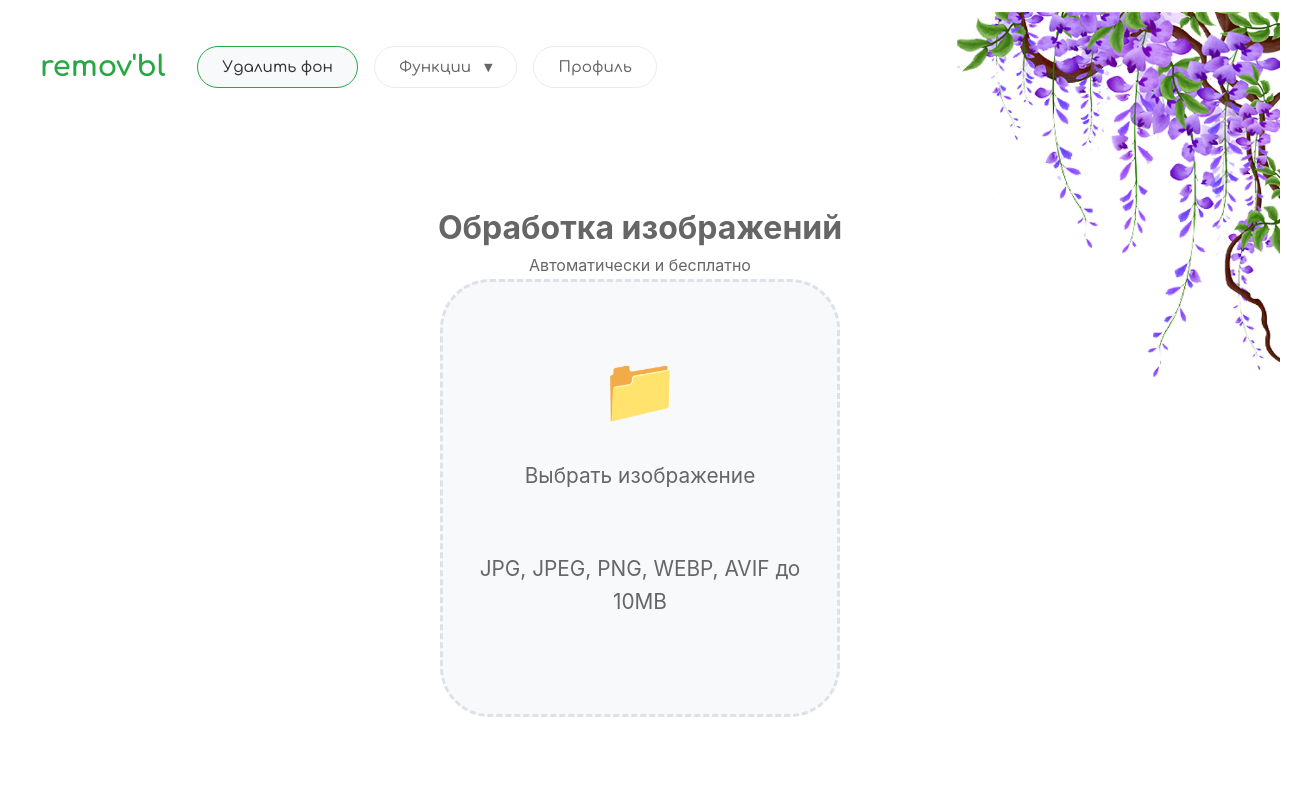
Test: App Component › 8. Переключение между функциями в меню
The image size is (1292, 812).
# Открываем меню
Click the button with test id "nav-functions".
click(446, 67)  # box [374,46,517,88]
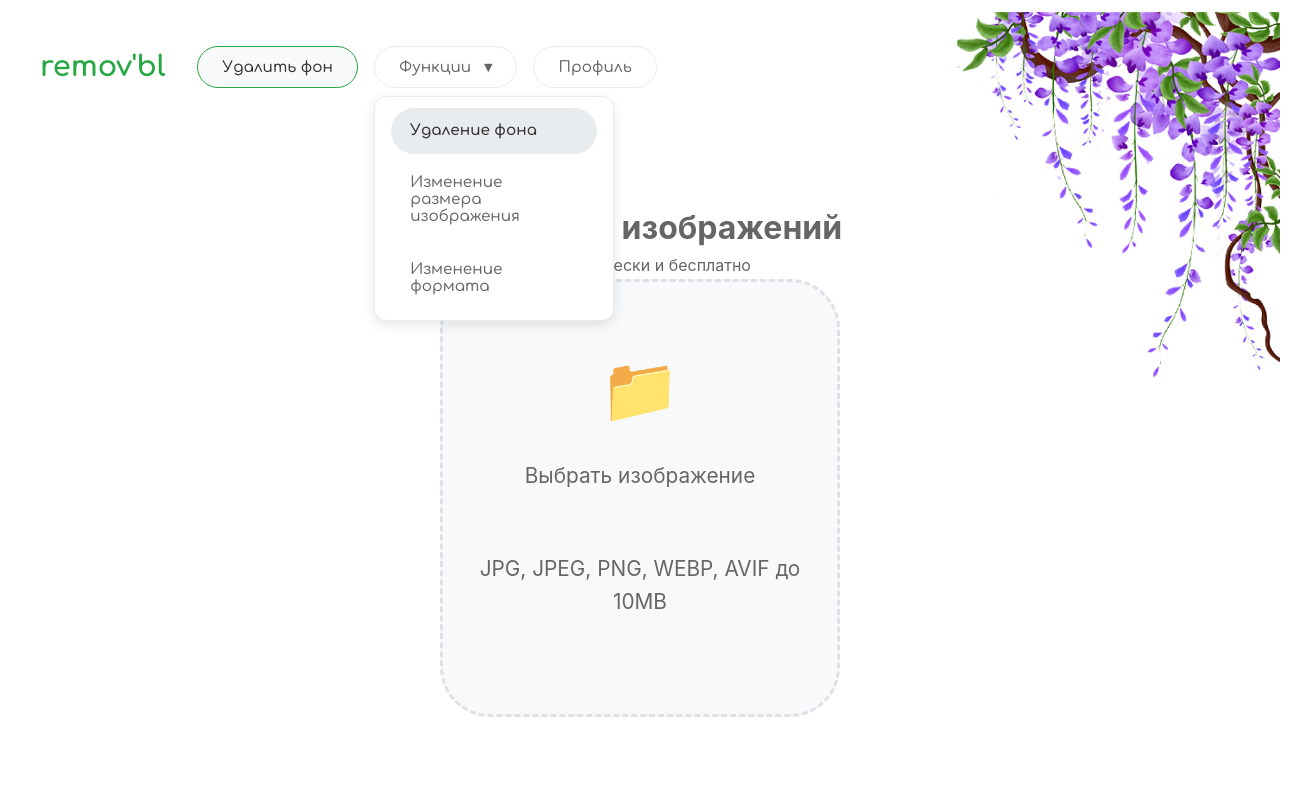
# Выбираем функцию изменения формата
Click the button with test id "function-format".
click(494, 278)  # box [391,246,597,309]
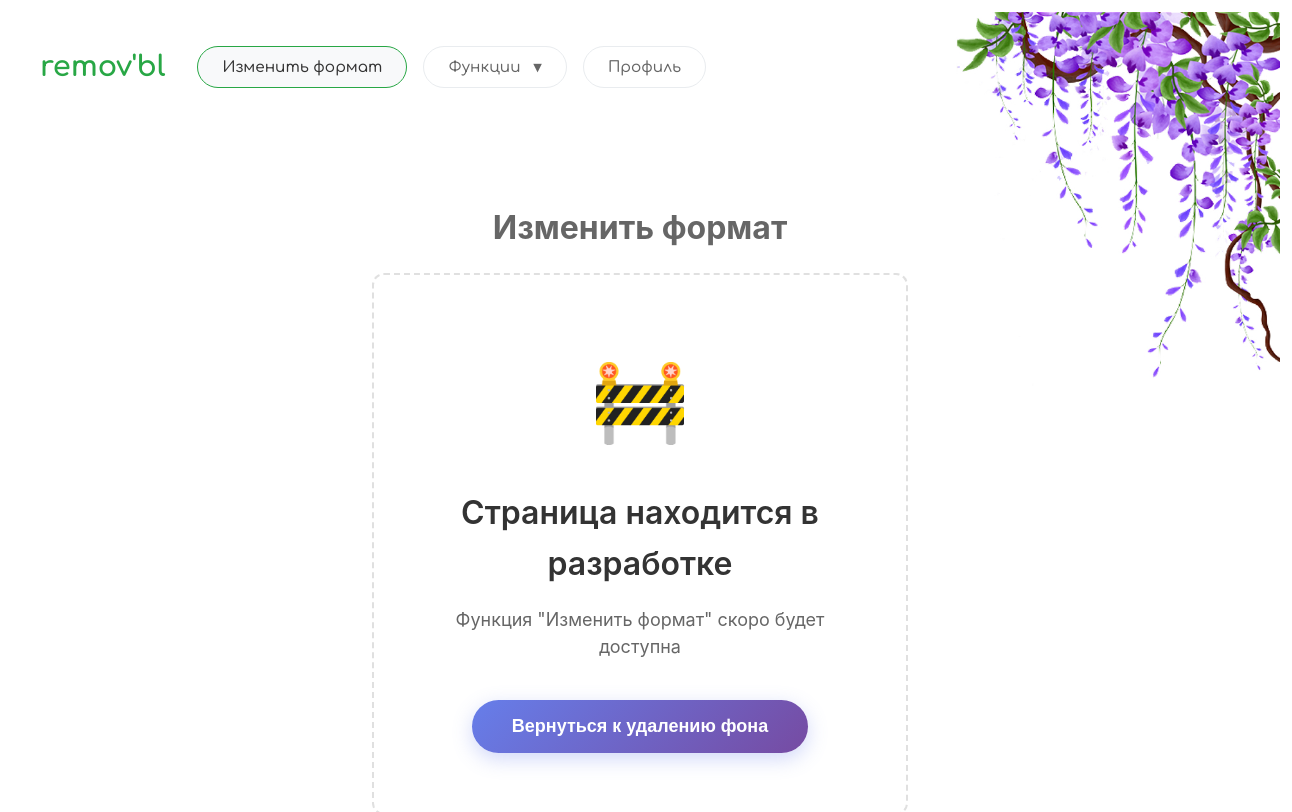
Now the button "Изменить формат" is shown, box [198,46,408,88]
Now the text "Функция \"Изменить формат\" скоро будет доступна" is shown, box [456,609,824,657]
